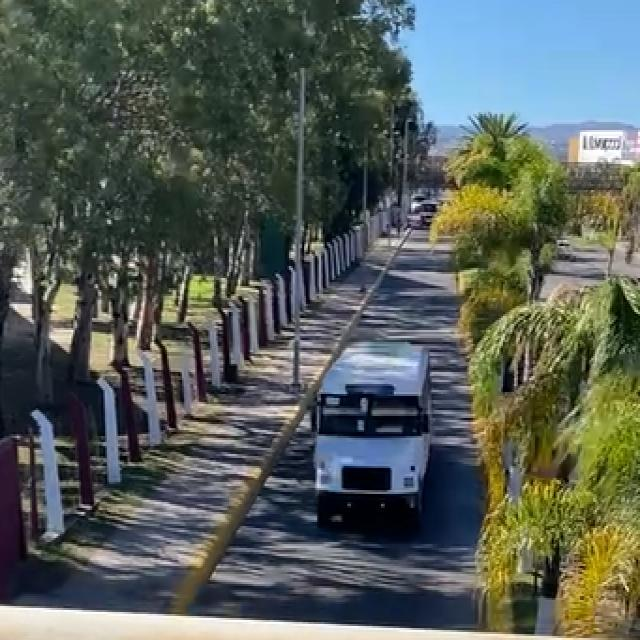Autobus: (308, 341, 436, 532)
